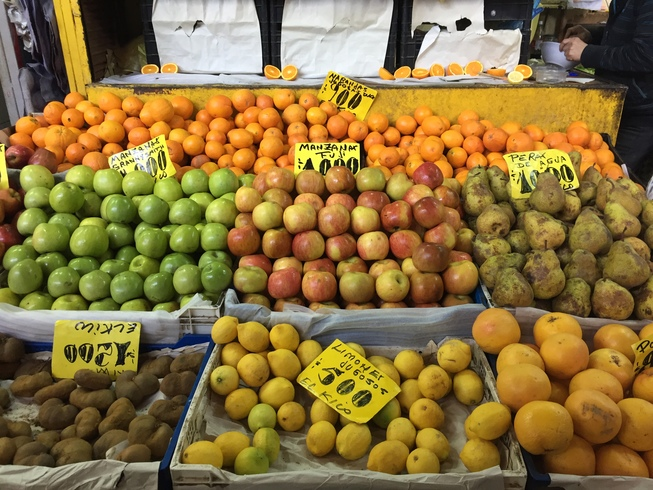precio: (290, 332, 396, 422), (46, 320, 144, 382), (506, 147, 584, 213), (108, 134, 185, 193), (292, 141, 370, 193), (314, 70, 380, 124)
